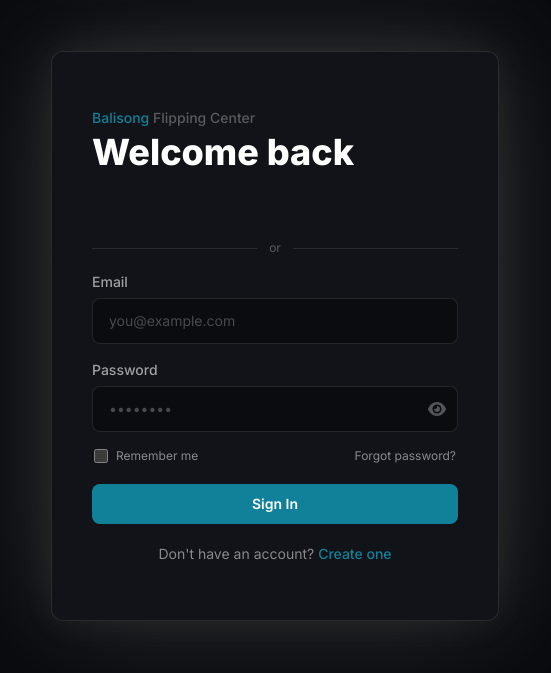
Test: LoginForm › shows the admin verification-code step instead of logging in directly for admin accounts
Step 1. Type "admin@example.com" into the field with placeholder "you@example.com" → (275, 321), box [92,298,458,344]
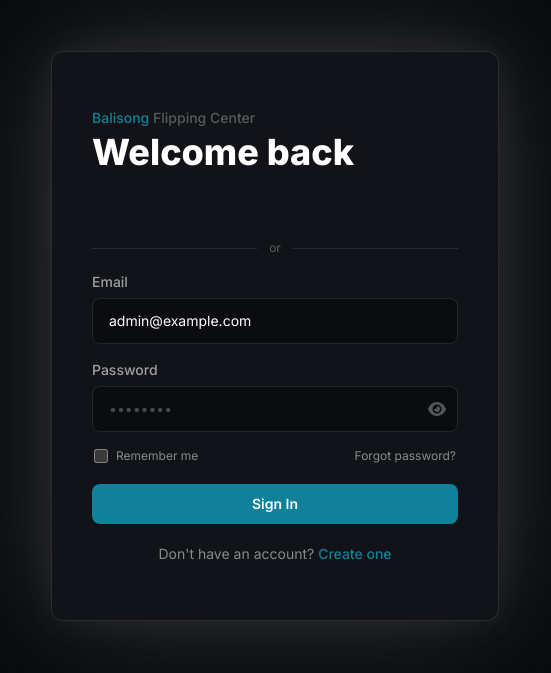
Step 2. Type "password123" into the password field with placeholder "••••••••" → (275, 409), box [92,386,458,432]
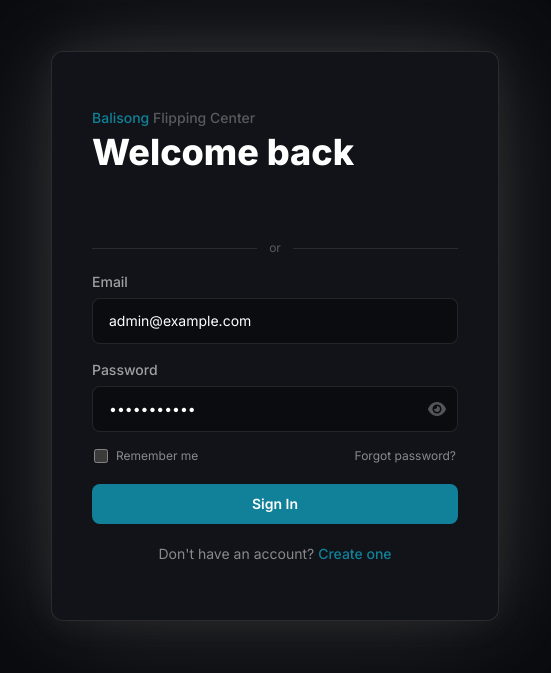
Step 3. Click the button "Sign In" → (275, 504), box [92,484,458,524]
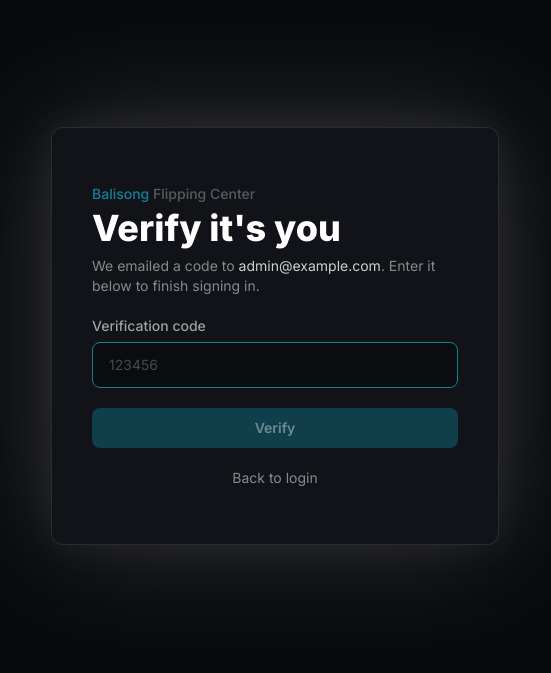
Now the heading "Verify it's you" is shown, box [92,206,341,250]
Now the text "admin@example.com" is shown, box [239,257,381,274]
